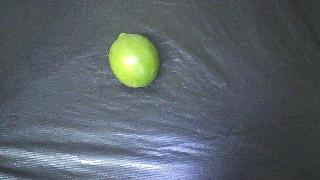LOCAL: (109, 33, 160, 88)
